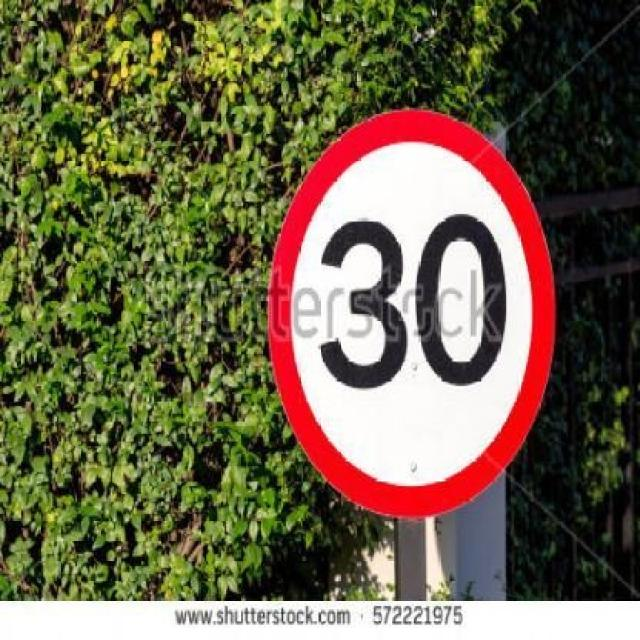forb_speed_over_30: (272, 111, 554, 514)
